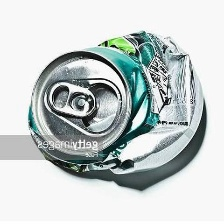can: (17, 22, 208, 185)
